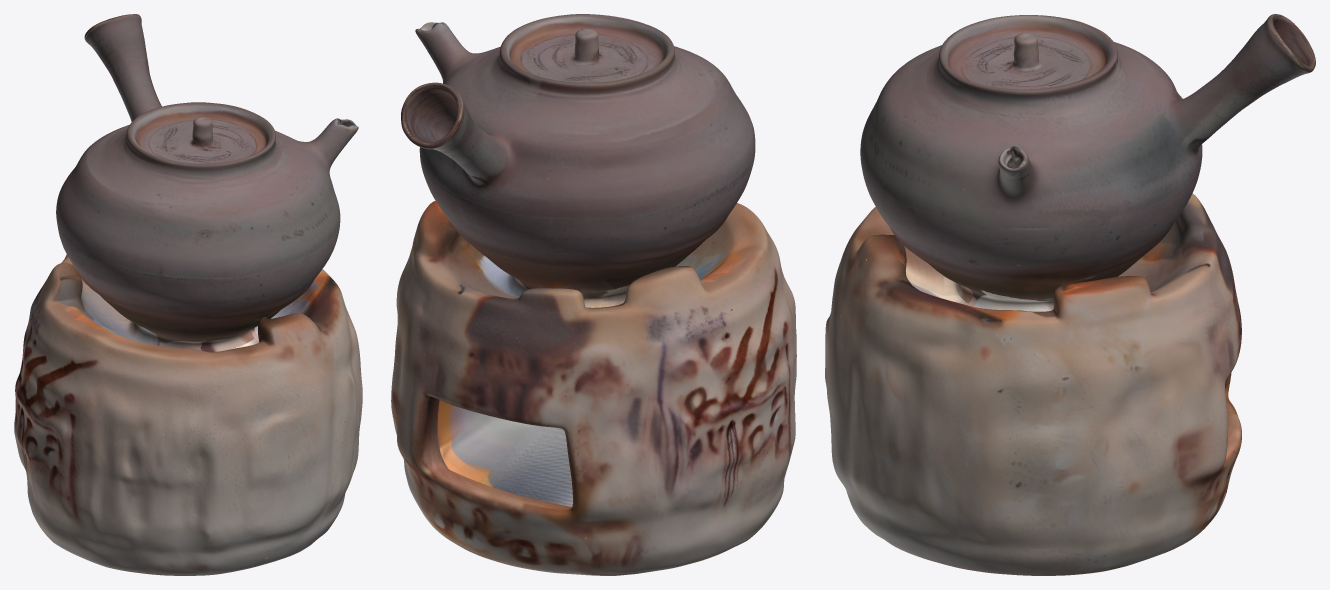
File: tripo_convert_00b227f2-627c-4a66-9c82-1913b4f81c09.fbx
3 views of the same model, side by side, from view 1: azimuth 30°, elevation 25°; view 2: azimuth 150°, elevation 25°; view 3: azimuth 270°, elevation 25° (orthographic). The views are drawn at different scales.
Visible parts, largest first — view 1: tripo_node_00b227f2; view 2: tripo_node_00b227f2; view 3: tripo_node_00b227f2.
Part boxes in pixels (left/top/right/bottom): tripo_node_00b227f2: left=14, top=14, right=362, bottom=575; tripo_node_00b227f2: left=391, top=14, right=796, bottom=575; tripo_node_00b227f2: left=825, top=14, right=1315, bottom=575.
Bounding box in the file's own units: 69.47 × 94.94 × 79.66.
Materials: 1 (1 with a texture image).
